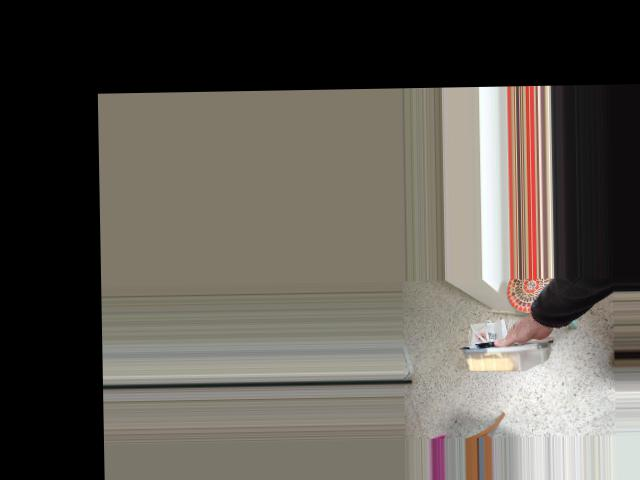cheese: (468, 298, 569, 395)
